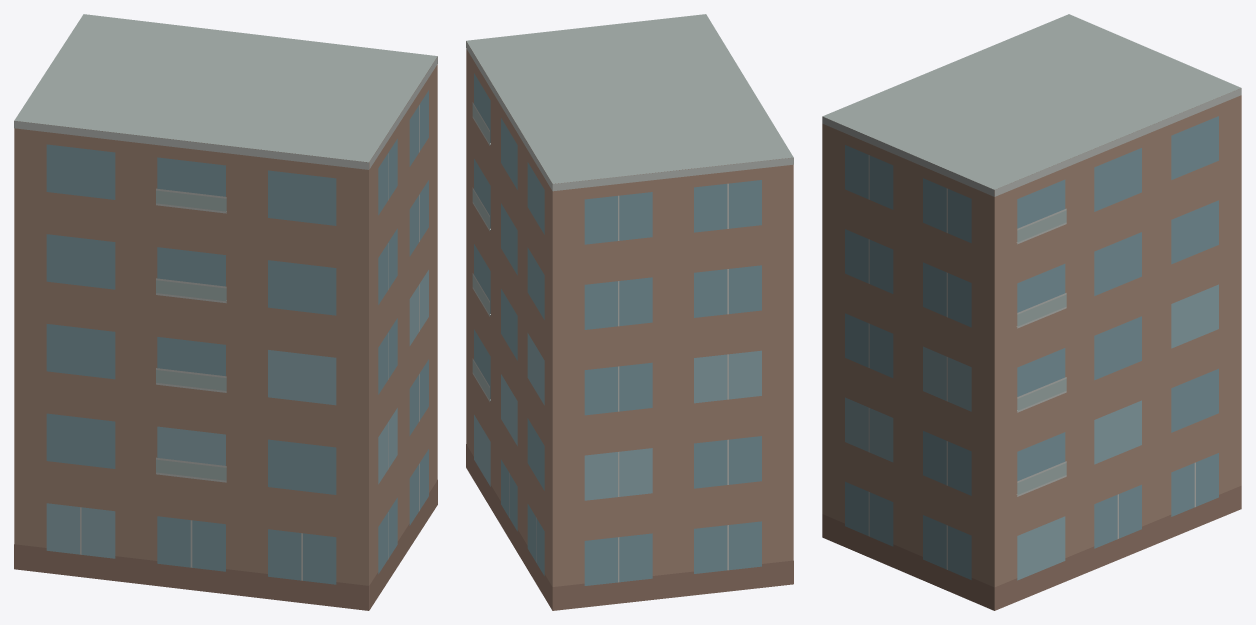
Rendered from survey-upis-32885045.glb.
3 views of the same model, side by side, from view 1: azimuth 30°, elevation 25°; view 2: azimuth 150°, elevation 25°; view 3: azimuth 270°, elevation 25° (orthographic). The views are drawn at different scales.
Visible parts, largest first — view 1: survey-upis-32885045.tmp; view 2: survey-upis-32885045.tmp; view 3: survey-upis-32885045.tmp.
Part boxes in pixels (<box>): survey-upis-32885045.tmp: <box>14,14,437,610</box>; survey-upis-32885045.tmp: <box>466,14,793,610</box>; survey-upis-32885045.tmp: <box>822,14,1241,610</box>.
Size of the model in its own units: 12.91 by 14.4 by 13.01.
